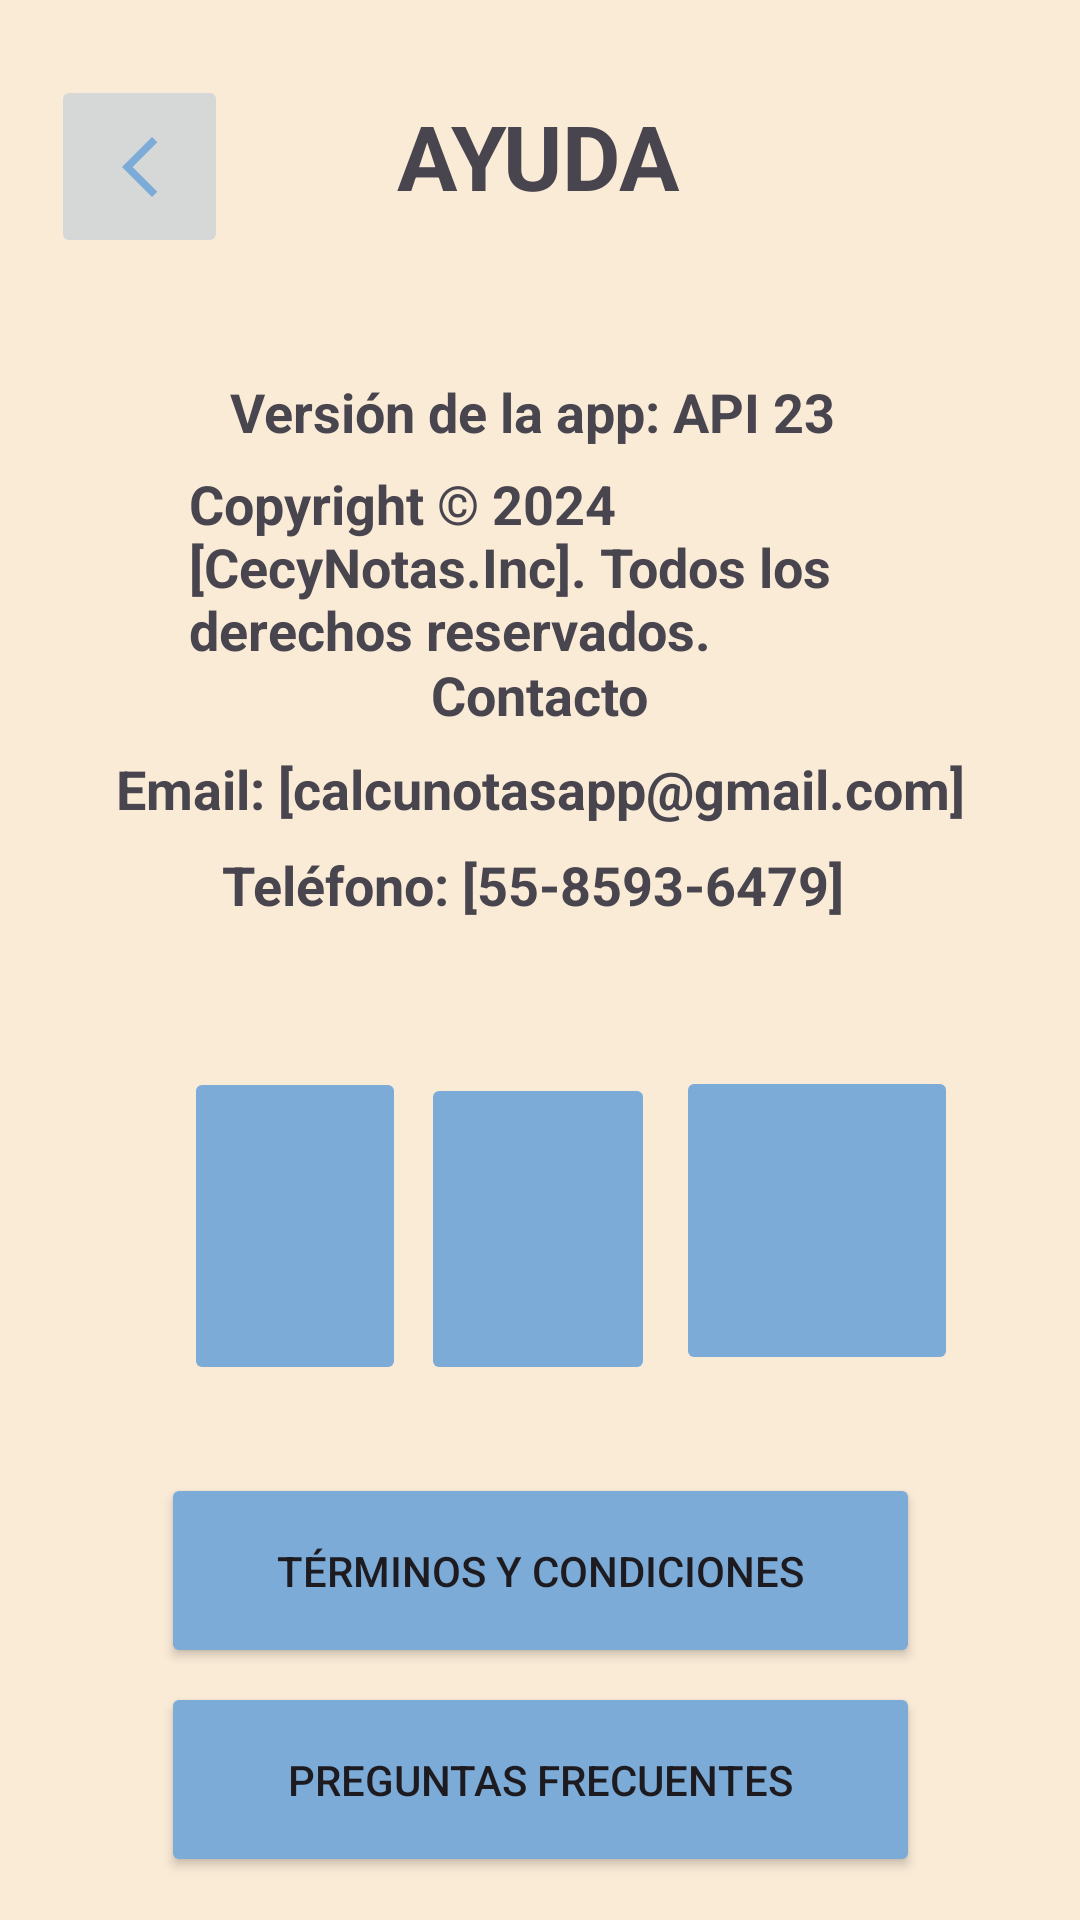

Where icons sit on this 1080 × 1920 app screen, as rect(x1, y1, x2, y2):
arrow back: rect(63, 93, 216, 240)
